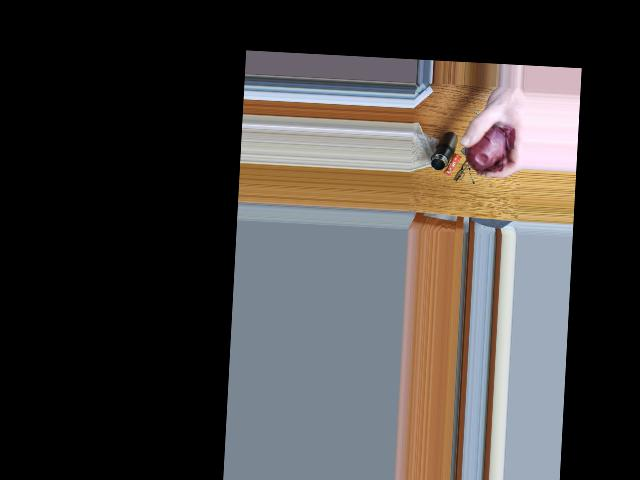onion: (464, 123, 510, 172)
